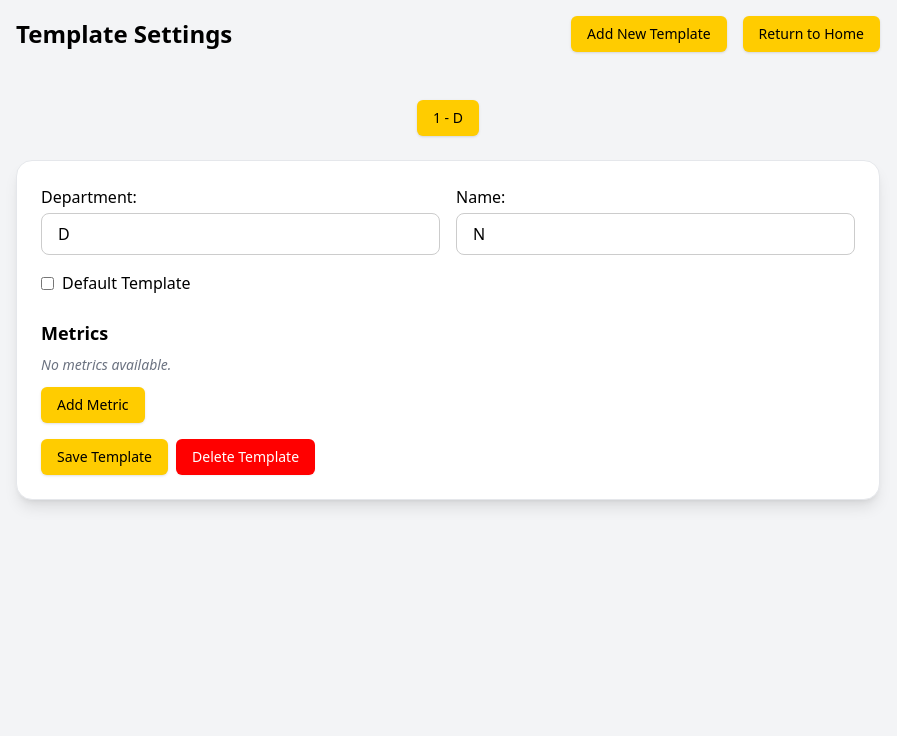
Test case: TemplateSettings › adds and deletes a metric
This screenshot has width=897, height=736.
What coordinates should you click on to do the following:
click the button "Add Metric"
I would click on:
 (93, 405)
Its box is [41,387,145,423].
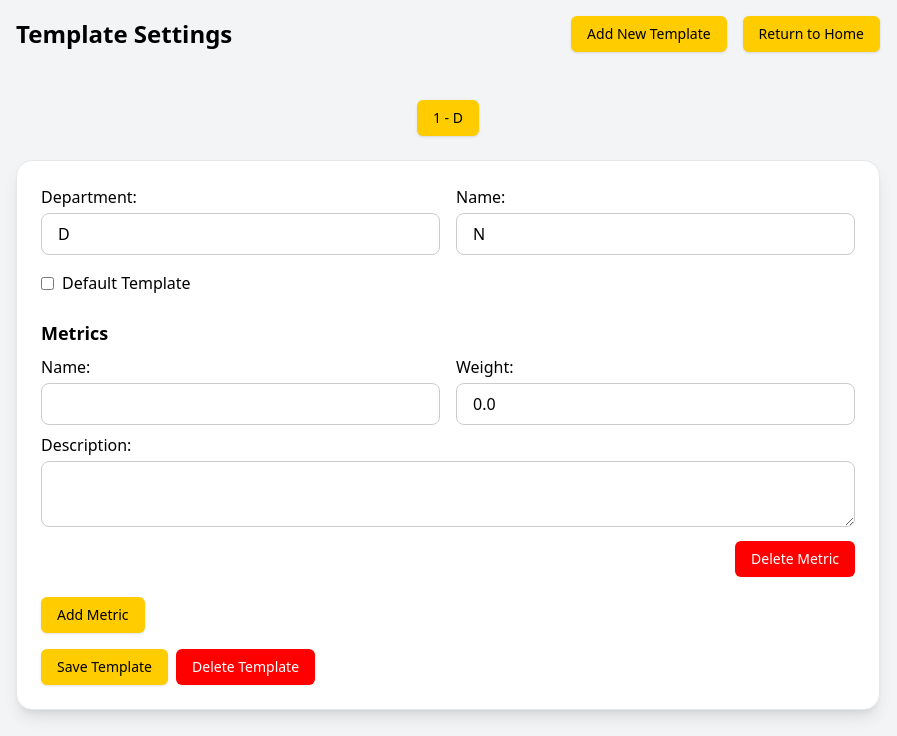
expect the text "Weight:" is shown: met, box [456,356,514,378]
What coordinates should you click on to do the following:
click the button "Delete Metric"
I would click on:
 (795, 559)
Its box is [735,541,855,577].
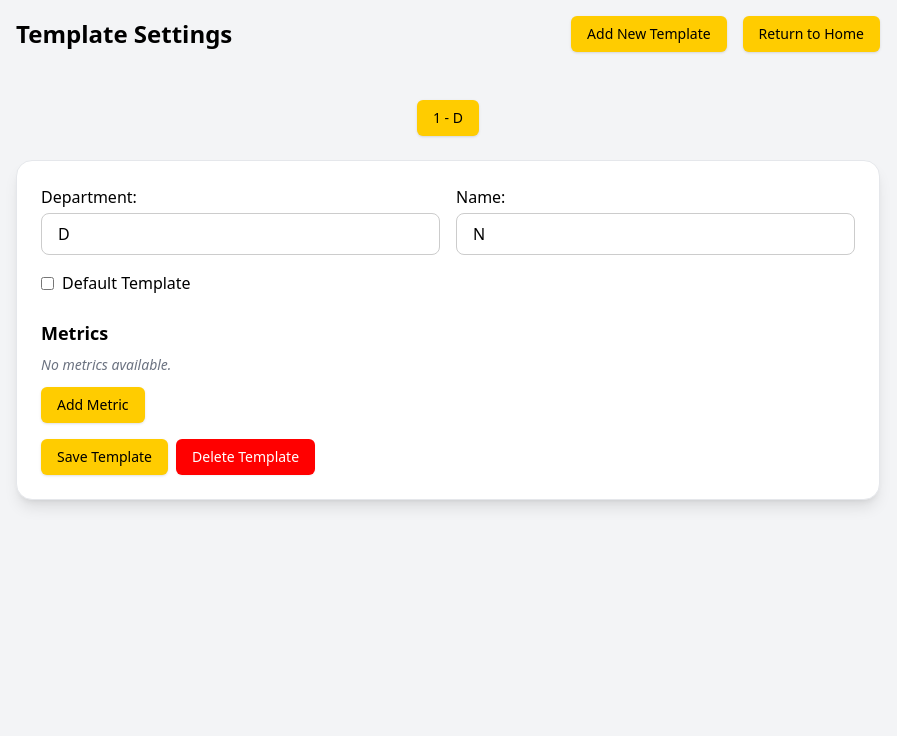
expect the label labelled "Weight:" is gone: met
